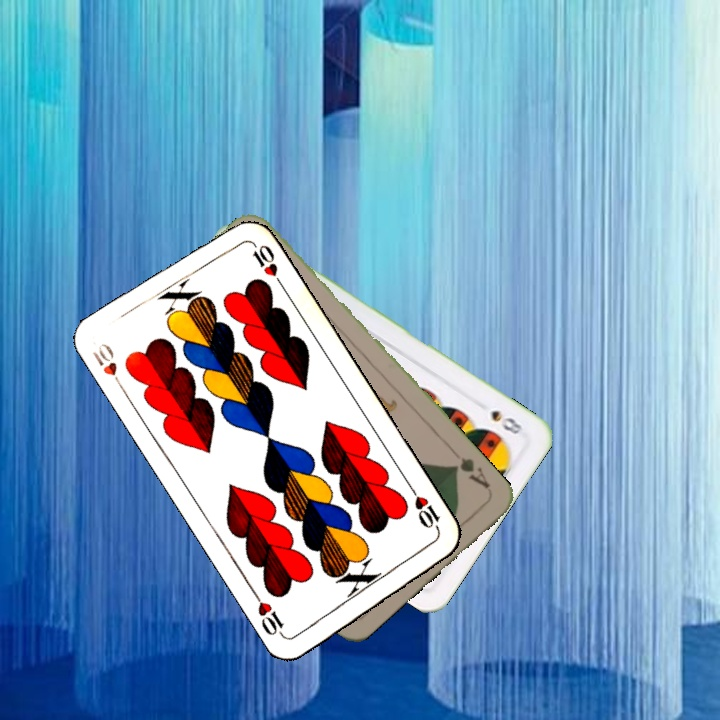GA: (447, 453, 493, 492)
H10: (88, 338, 128, 394), (406, 483, 443, 537)
S8: (487, 405, 526, 437)
